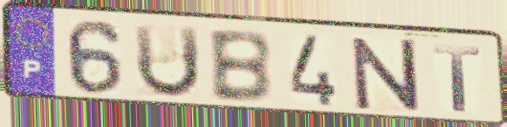4: (288, 33, 339, 108)
6: (64, 18, 125, 98)
B: (205, 28, 276, 106)
N: (349, 36, 424, 113)
T: (431, 43, 485, 114)
U: (131, 22, 204, 101)
